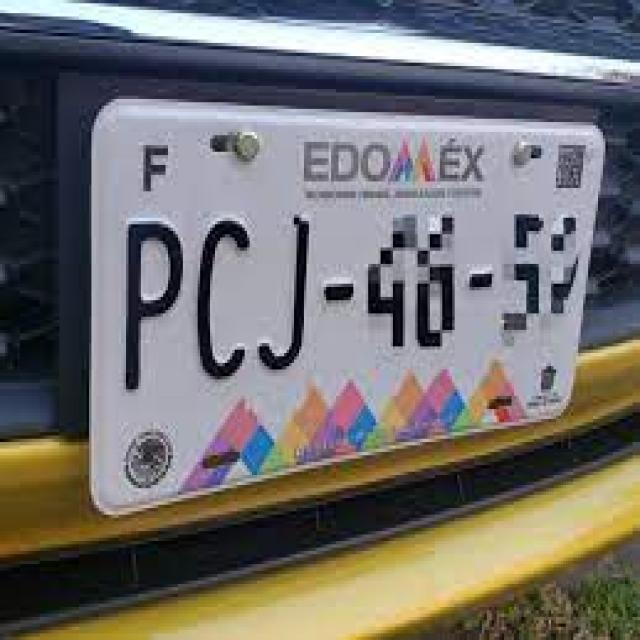placa: (93, 197, 585, 389)
